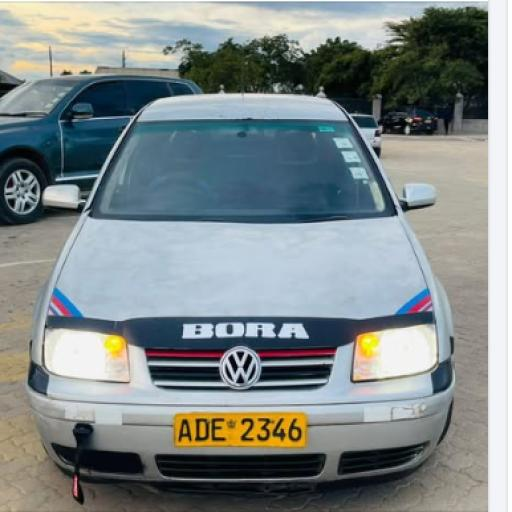number-plates: (168, 412, 306, 449)
